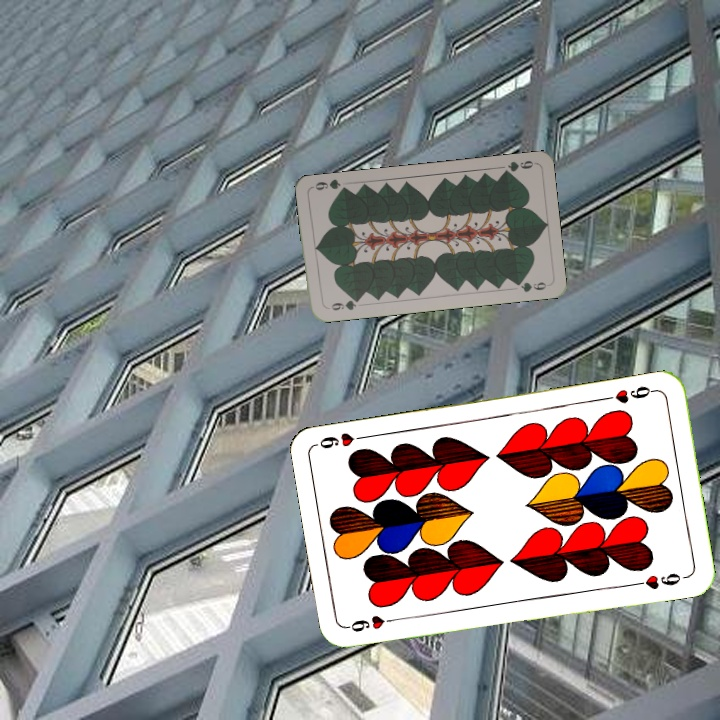G9: (498, 156, 537, 178), (327, 294, 362, 313)
H9: (601, 382, 660, 406), (343, 611, 402, 634)
